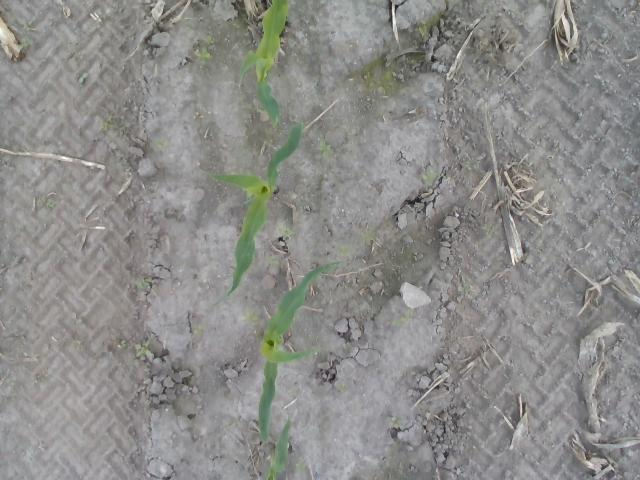Maize: (197, 120, 304, 307), (258, 261, 344, 445), (238, 0, 292, 130), (266, 415, 294, 479)
Weeds: (193, 36, 214, 66), (134, 340, 156, 358), (392, 308, 412, 326), (72, 319, 84, 348), (336, 244, 360, 258), (359, 230, 374, 248), (108, 334, 130, 346), (103, 114, 117, 132), (22, 23, 34, 43), (412, 24, 428, 39), (457, 276, 472, 292), (2, 372, 15, 390), (316, 140, 330, 155), (424, 170, 439, 184), (296, 460, 308, 477), (138, 276, 152, 290), (36, 368, 47, 384), (247, 104, 264, 114), (390, 416, 404, 428), (280, 227, 294, 239), (44, 197, 56, 209), (267, 254, 280, 264), (245, 313, 256, 324), (79, 70, 88, 83), (156, 138, 168, 147), (291, 387, 302, 396), (484, 224, 493, 235), (238, 138, 246, 146), (194, 326, 202, 334), (31, 352, 40, 359), (341, 383, 348, 392), (463, 162, 471, 168)
